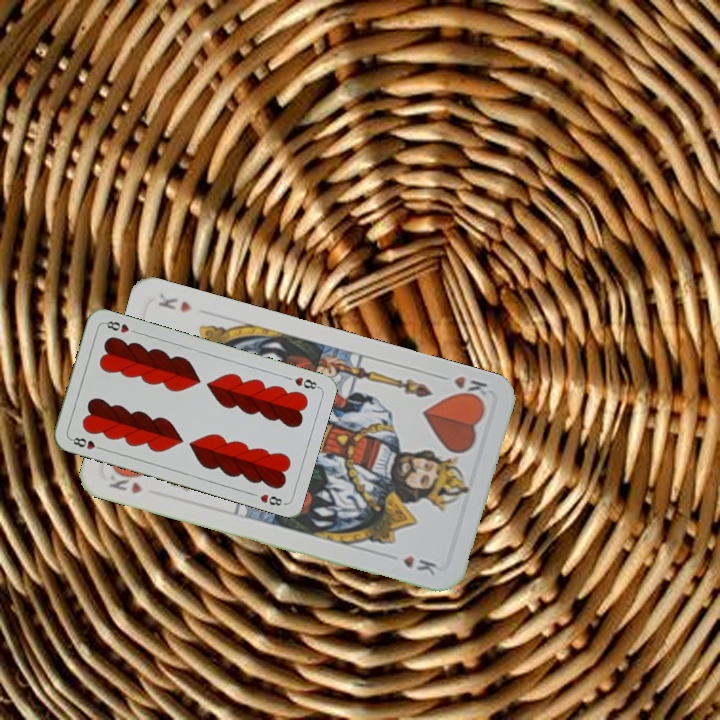H8: (66, 433, 106, 452), (290, 373, 321, 392)
HK: (433, 370, 490, 405), (105, 465, 145, 497)
